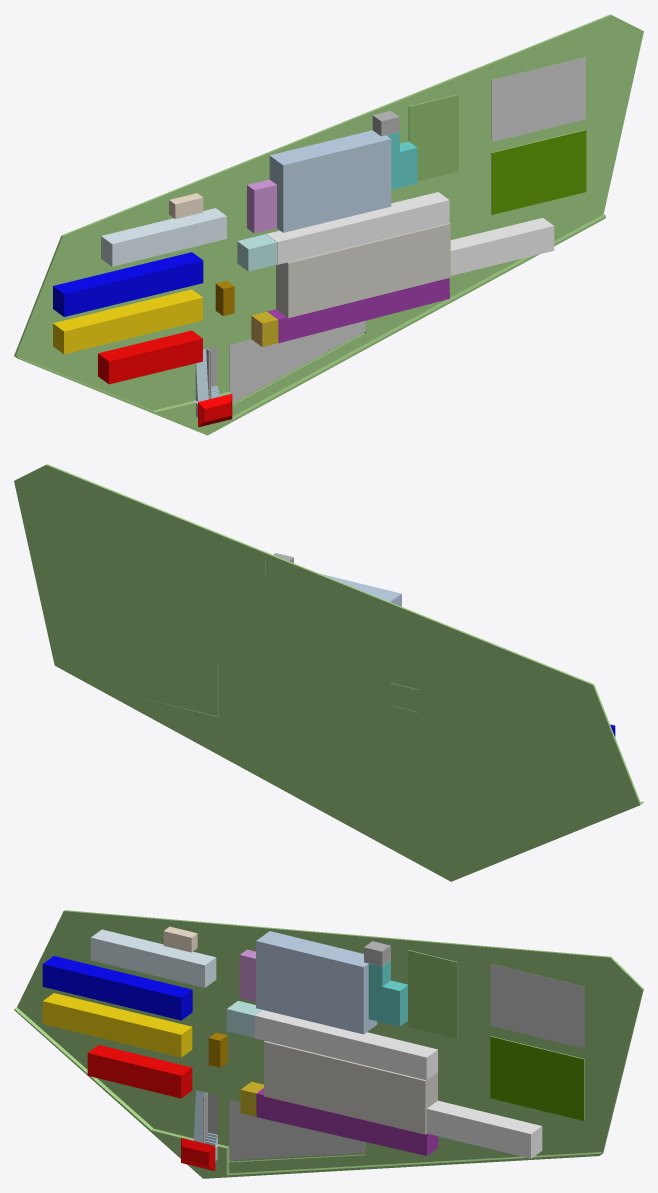
The model's file is Bentao.glb.
3 views of the same model, one above another, from view 1: azimuth 30°, elevation 25°; view 2: azimuth 150°, elevation 25°; view 3: azimuth 330°, elevation 25° (orthographic).
Visible parts, largest first — view 1: Part 1; view 2: Part 1; view 3: Part 1.
Part boxes in pixels (x1=…): Part 1: x1=14, y1=14, x2=643, y2=435; Part 1: x1=14, y1=464, x2=643, y2=881; Part 1: x1=14, y1=910, x2=643, y2=1178.
Size of the model in its own units: 0.2919 by 0.1417 by 0.012.
